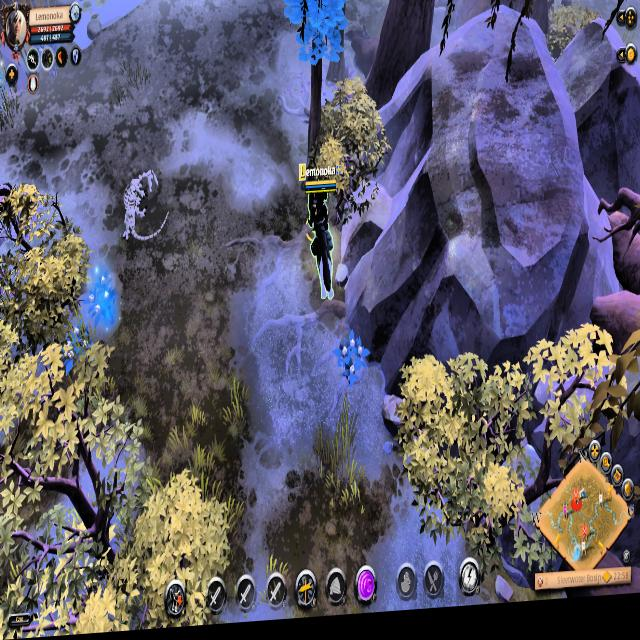fiber tier 4: (84, 270, 118, 336), (336, 333, 370, 393)
